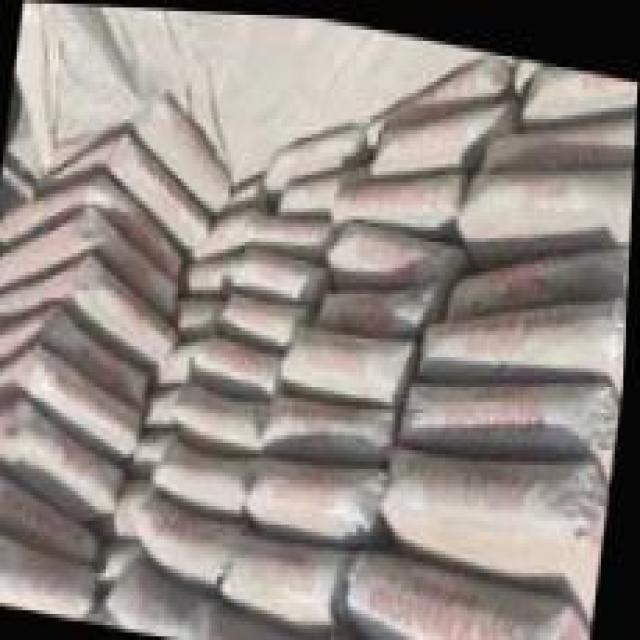gunny_bag: (392, 453, 613, 617), (364, 547, 595, 640), (0, 201, 182, 312), (431, 283, 622, 367), (0, 385, 125, 512), (411, 371, 616, 445), (469, 158, 635, 247), (0, 304, 148, 401), (114, 135, 213, 252), (379, 92, 515, 168), (257, 453, 382, 533), (0, 471, 105, 565), (0, 532, 103, 618), (296, 319, 411, 392), (341, 214, 452, 286), (236, 528, 340, 604), (166, 422, 251, 502), (147, 491, 231, 569), (198, 322, 282, 392)
